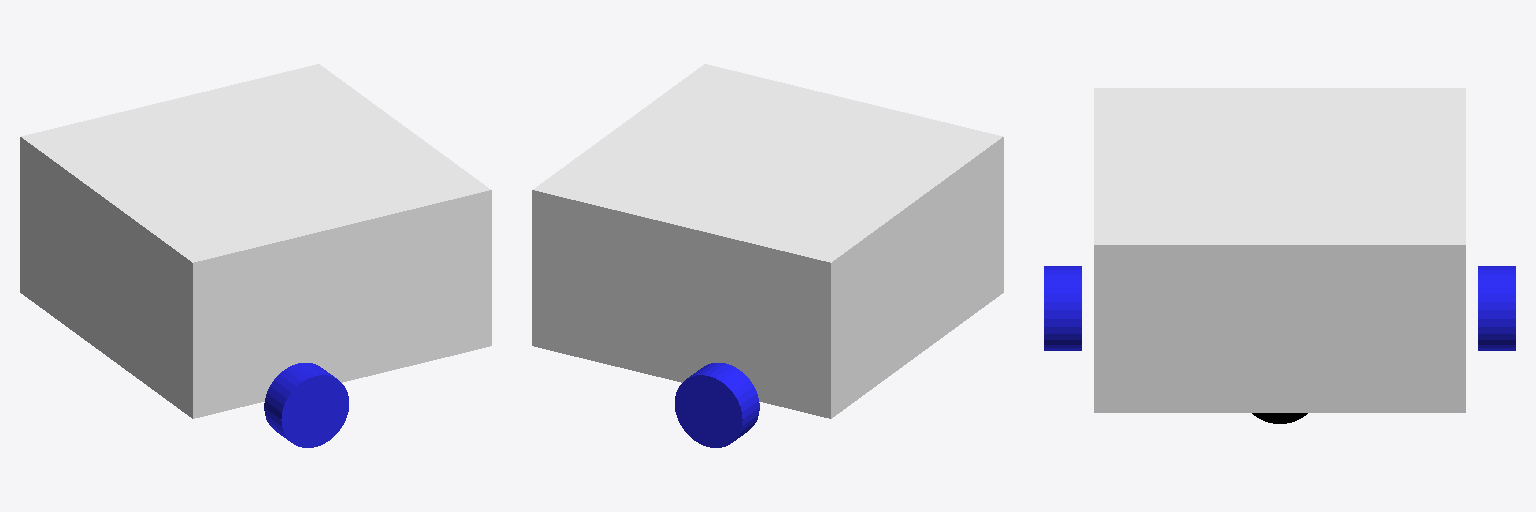
robot.urdf — robot:
<?xml version="1.0" ?>
<!-- =================================================================================== -->
<!-- |    This document was autogenerated by xacro from [local-path]/2024-2025-Robotics-cup/src/robonav/description/robot.urdf.xacro | -->
<!-- |    EDITING THIS FILE BY HAND IS NOT RECOMMENDED                                 | -->
<!-- =================================================================================== -->
<robot name="robot">
  <!-- Define Colors -->
  <material name="white">
    <color rgba="1 1 1 1"/>
  </material>
  <material name="orange">
    <color rgba="1 0.3 0.1 1"/>
  </material>
  <material name="blue">
    <color rgba="0.2 0.2 1 1"/>
  </material>
  <material name="black">
    <color rgba="0 0 0 1"/>
  </material>
  <!-- Base Link -->
  <link name="base_link"/>
  <!-- Chassis -->
  <joint name="chassis_joint" type="fixed">
    <parent link="base_link"/>
    <child link="chassis"/>
    <origin xyz="-0.1 0 0"/>
  </joint>
  <link name="chassis">
    <visual>
      <origin rpy="0 0 0" xyz="0.15 0 0.075"/>
      <geometry>
        <box size="0.3 0.3 0.15"/>
      </geometry>
      <material name="white"/>
    </visual>
    <collision>
      <origin rpy="0 0 0" xyz="0.15 0 0.075"/>
      <geometry>
        <box size="0.3 0.3 0.15"/>
      </geometry>
    </collision>
    <inertial>
      <mass value="1.0"/>
      <origin rpy="0 0 0" xyz="0.1 0 -0.05"/>
      <inertia ixx="0.009374999999999998" ixy="0.0" ixz="0.0" iyy="0.009374999999999998" iyz="0.0" izz="0.015"/>
    </inertial>
  </link>
  <gazebo reference="chassis">
    <material>Gazebo/White</material>
  </gazebo>
  <!-- Left Wheel -->
  <joint name="left_wheel_joint" type="continuous">
    <parent link="base_link"/>
    <child link="left_wheel"/>
    <origin rpy="-1.5707963267948966 0 0" xyz="0 0.175 0"/>
    <axis xyz="0 0 1"/>
  </joint>
  <link name="left_wheel">
    <visual>
      <geometry>
        <cylinder length="0.03" radius="0.0342"/>
      </geometry>
      <material name="blue"/>
    </visual>
    <collision>
      <geometry>
        <cylinder length="0.03" radius="0.0342"/>
      </geometry>
    </collision>
    <inertial>
      <mass value="0.1"/>
      <origin rpy="0 0 0" xyz="0 0 0"/>
      <inertia ixx="3.6741e-05" ixy="0.0" ixz="0.0" iyy="3.6741e-05" iyz="0.0" izz="5.8482e-05"/>
    </inertial>
  </link>
  <gazebo reference="left_wheel">
    <material>Gazebo/Blue</material>
  </gazebo>
  <!-- Right Wheel -->
  <joint name="right_wheel_joint" type="continuous">
    <parent link="base_link"/>
    <child link="right_wheel"/>
    <origin rpy="1.5707963267948966 0 0" xyz="0 -0.175 0"/>
    <axis xyz="0 0 -1"/>
  </joint>
  <link name="right_wheel">
    <visual>
      <geometry>
        <cylinder length="0.03" radius="0.0342"/>
      </geometry>
      <material name="blue"/>
    </visual>
    <collision>
      <geometry>
        <cylinder length="0.03" radius="0.0342"/>
      </geometry>
    </collision>
    <inertial>
      <mass value="0.1"/>
      <origin rpy="0 0 0" xyz="0 0 0"/>
      <inertia ixx="3.6741e-05" ixy="0.0" ixz="0.0" iyy="3.6741e-05" iyz="0.0" izz="5.8482e-05"/>
    </inertial>
  </link>
  <gazebo reference="right_wheel">
    <material>Gazebo/Blue</material>
  </gazebo>
  <!-- Caster Wheel -->
  <joint name="caster_wheel_joint" type="fixed">
    <parent link="chassis"/>
    <child link="caster_wheel"/>
    <origin rpy="0 0 0" xyz="0.24 0 0"/>
  </joint>
  <link name="caster_wheel">
    <visual>
      <geometry>
        <sphere radius="0.0342"/>
      </geometry>
      <material name="black"/>
    </visual>
    <collision>
      <geometry>
        <sphere radius="0.0342"/>
      </geometry>
    </collision>
    <inertial>
      <mass value="0.1"/>
      <origin rpy="0 0 0" xyz="0 0 0"/>
      <inertia ixx="4.678560000000001e-05" ixy="0.0" ixz="0.0" iyy="4.678560000000001e-05" iyz="0.0" izz="4.678560000000001e-05"/>
    </inertial>
  </link>
  <gazebo reference="caster_wheel">
    <material>Gazebo/Black</material>
    <mu1 value="0.0001"/>
    <mu2 value="0.0001"/>
  </gazebo>
  <ros2_control name="DiffDriveController" type="system">
    <hardware>
      <plugin>gazebo_ros2_control/GazeboSystem</plugin>
    </hardware>
    <joint name="left_wheel_joint">
      <command_interface name="velocity"/>
      <state_interface name="position"/>
      <state_interface name="velocity"/>
    </joint>
    <joint name="right_wheel_joint">
      <command_interface name="velocity"/>
      <state_interface name="position"/>
      <state_interface name="velocity"/>
    </joint>
  </ros2_control>
  <gazebo>
    <plugin filename="libgazebo_ros2_control.so" name="gazebo_ros2_control">
      <robotSimType>gazebo_ros2_control/GazeboSystem</robotSimType>
    </plugin>
  </gazebo>
  <!-- <ros2_control name="GazeboSystem" type="system">
        <hardware>
            <plugin>libgazebo_ros2_control/GazeboSystem</plugin>
        </hardware>

        <joint name="left_wheel_joint">
        <command_interface name="velocity">
            <param name="min">-1</param>
            <param name="max">1</param>
        </command_interface>
        <state_interface name="position"/>
        <state_interface name="velocity"/>
        </joint>

        <joint name="right_wheel_joint">
        <command_interface name="velocity">
            <param name="min">-1</param>
            <param name="max">1</param>
        </command_interface>
        <state_interface name="position"/>
        <state_interface name="velocity"/>
        </joint>
    </ros2_control> -->
  <!-- Inkludiere Gazebo- und Steuerungs-Plugins
    <xacro:include filename="gazebo_control.xacro"/> -->
</robot>

--- Render facts (derived) ---
Views: 3 orthographic renders of the robot side by side, from view 1: azimuth 30°, elevation 25°; view 2: azimuth 150°, elevation 25°; view 3: azimuth 270°, elevation 25°.
Robot: robot — 5 links, 4 joints (2 continuous, 2 fixed); root link base_link; default pose: all joints at 0.
Visible links, largest first — view 1: chassis, right_wheel; view 2: chassis, left_wheel; view 3: chassis, left_wheel, right_wheel.
Boxes of the visible links, left/top/right/bottom form: chassis: left=20, top=64, right=491, bottom=418; right_wheel: left=264, top=363, right=348, bottom=447; chassis: left=532, top=64, right=1003, bottom=418; left_wheel: left=675, top=363, right=759, bottom=447; chassis: left=1094, top=88, right=1465, bottom=412; left_wheel: left=1478, top=266, right=1515, bottom=350; right_wheel: left=1044, top=266, right=1081, bottom=350.
Size in the robot's own frame: 0.3 by 0.38 by 0.1842 metres.
Geometry: primitives only (box / cylinder / sphere), no mesh files.